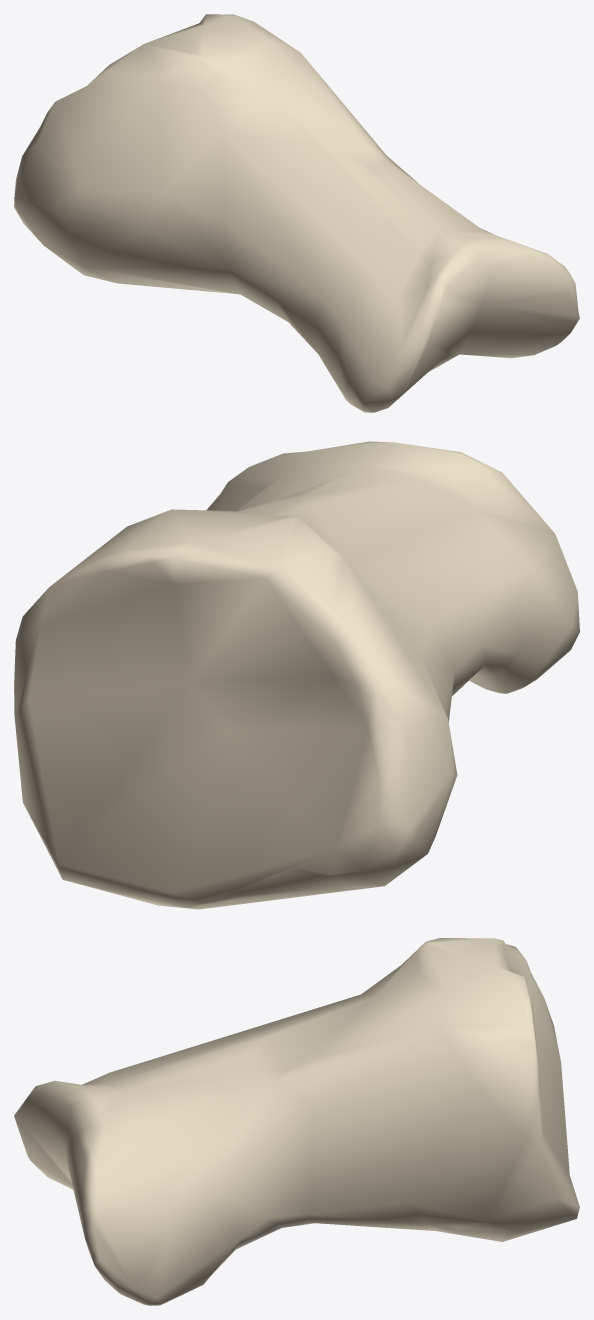
The model's file is proximal-phalanx-of-first-finger-of-foot-l.glb.
3 renders of one model, top to bottom at view 1: azimuth 30°, elevation 25°; view 2: azimuth 150°, elevation 25°; view 3: azimuth 270°, elevation 25°, orthographic. The views are drawn at different scales.
Visible parts, largest first — view 1: Proximal phalanx of first finger of foot.l; view 2: Proximal phalanx of first finger of foot.l; view 3: Proximal phalanx of first finger of foot.l.
Part boxes in pixels (box(x1,y1,x2,y2)): Proximal phalanx of first finger of foot.l: box(14, 14, 579, 412); Proximal phalanx of first finger of foot.l: box(14, 441, 579, 909); Proximal phalanx of first finger of foot.l: box(14, 938, 579, 1305).
Size of the model in its own units: 0.0261 by 0.0177 by 0.0345.
